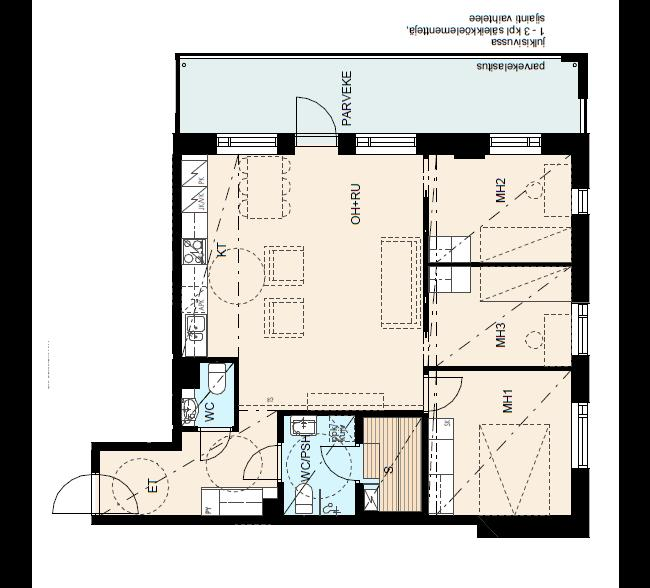bathroom: (282, 416, 356, 518), (180, 361, 235, 429)
door: (293, 94, 336, 149), (90, 472, 138, 520), (48, 474, 102, 516), (238, 440, 284, 484), (319, 444, 366, 480), (421, 377, 463, 414), (194, 426, 230, 462)
perimeter: (92, 132, 590, 526)
window: (567, 396, 593, 475), (211, 130, 280, 158), (351, 130, 418, 158), (484, 130, 545, 158), (568, 299, 594, 362), (566, 185, 593, 220)
